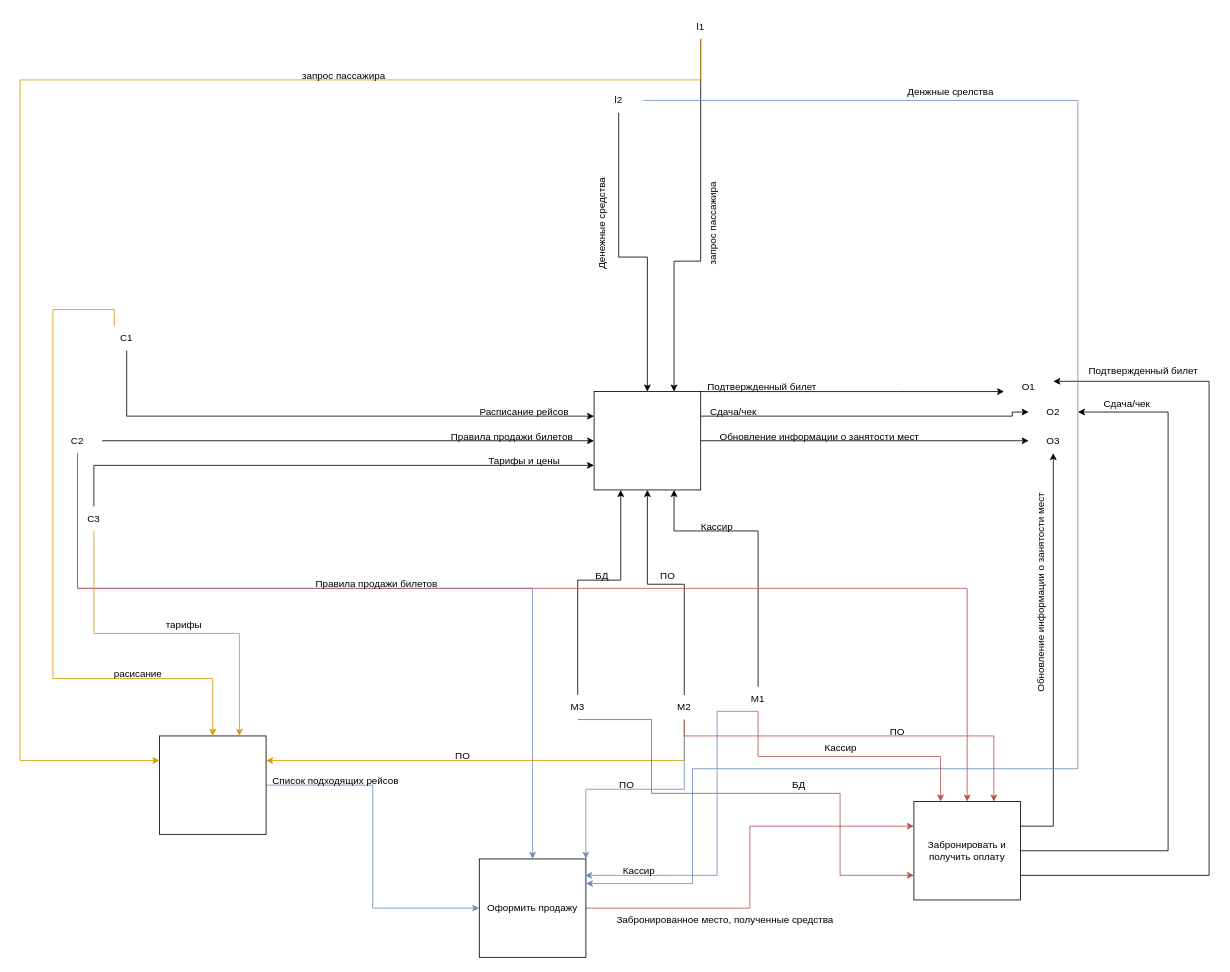
Some shapes in this 1230 by 972 pixel diagram are drawn without their labels. Here are the shapes that lost their labels. From the top down, the box of each, then its label:
(593, 391, 701, 490): Продажа билетов
(159, 735, 266, 834): Обработать запрос
